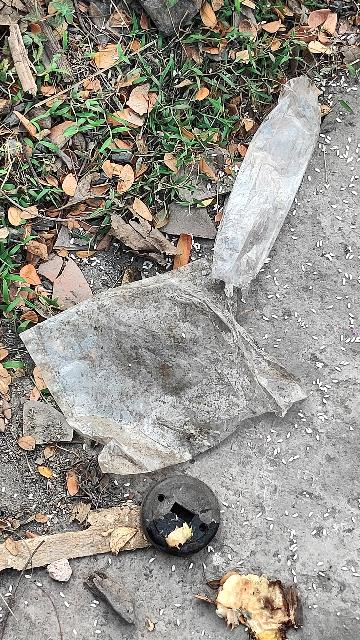hardplastic: (137, 480, 225, 557)
